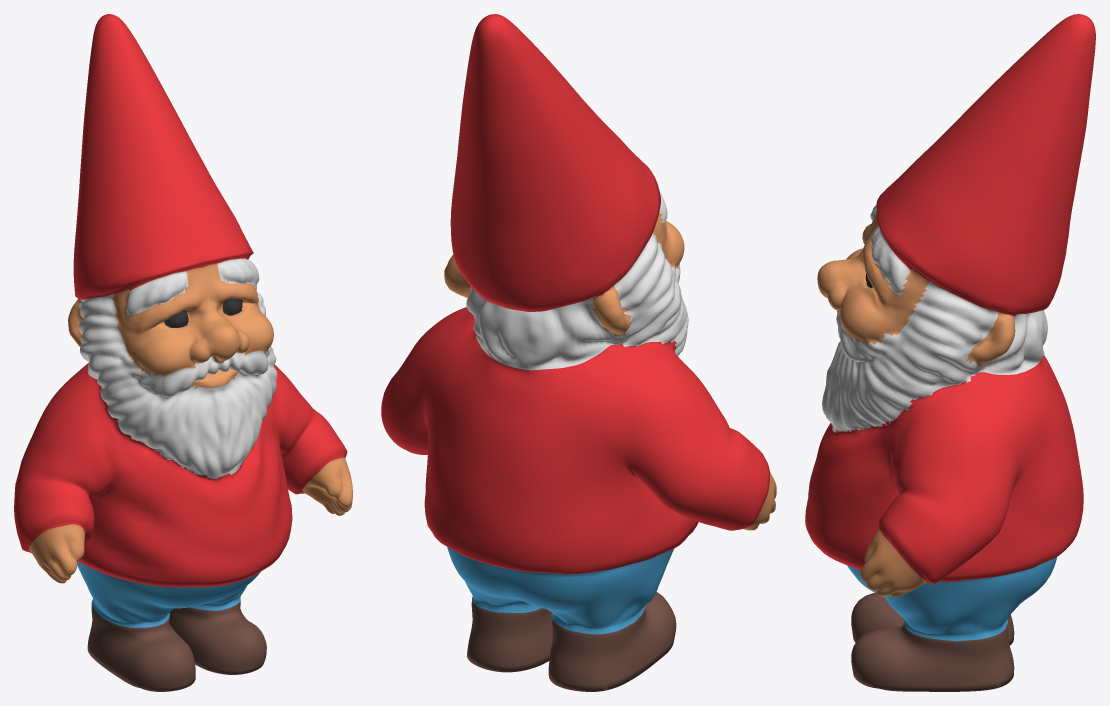
The model's file is RedGnome.fbx.
3 renders of one model, left to right at view 1: azimuth 30°, elevation 25°; view 2: azimuth 150°, elevation 25°; view 3: azimuth 270°, elevation 25°, orthographic. The views are drawn at different scales.
Parts seen in each view (by area): view 1: 13184_PudgyGnome_v1_NEW; view 2: 13184_PudgyGnome_v1_NEW; view 3: 13184_PudgyGnome_v1_NEW.
Part boxes in pixels (box(x1,y1,x2,y2)): 13184_PudgyGnome_v1_NEW: box(14, 14, 352, 691); 13184_PudgyGnome_v1_NEW: box(381, 14, 776, 691); 13184_PudgyGnome_v1_NEW: box(805, 14, 1095, 691).
Bounding box in the file's own units: 1796 × 3175 × 1304.
